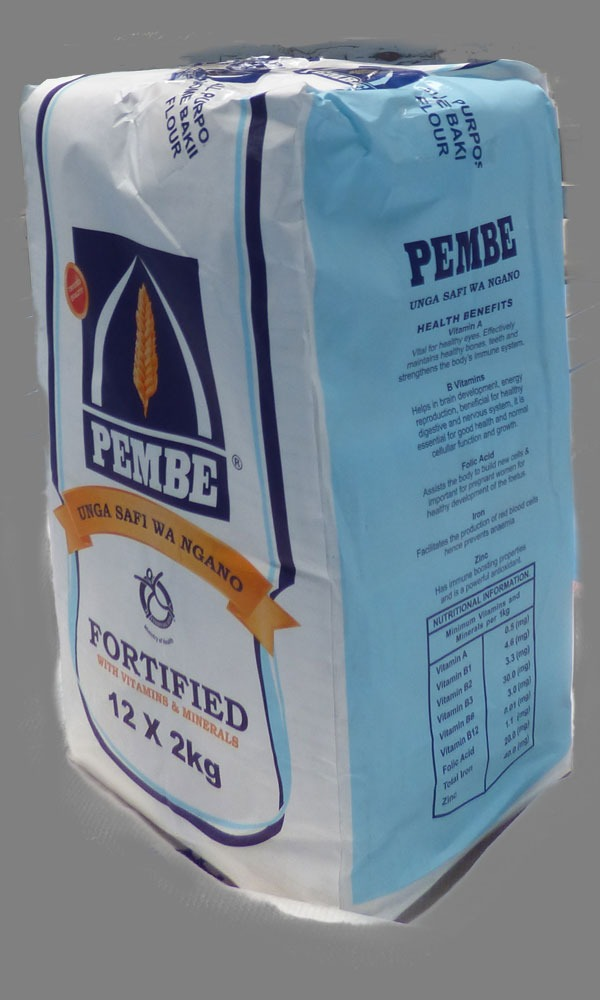wheat_flour_blue_label: (17, 47, 562, 914)
